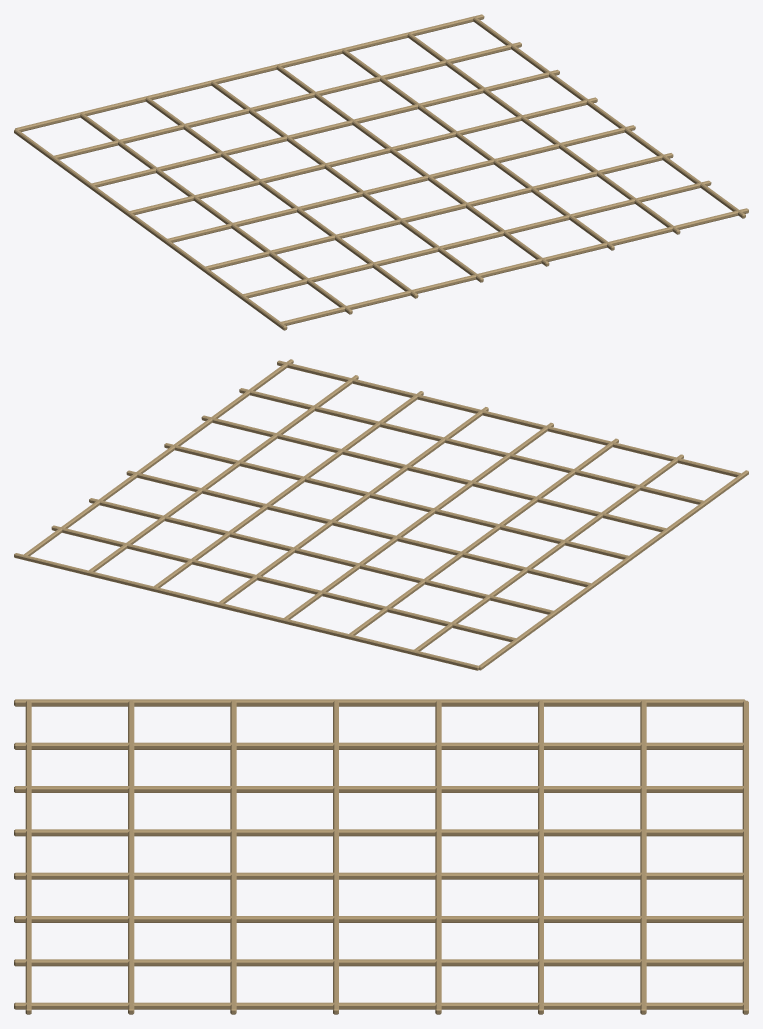
Rendered from equipment-net.lod0.glb.
3 views of the same model, one above another, from view 1: azimuth 30°, elevation 25°; view 2: azimuth 150°, elevation 25°; view 3: azimuth 270°, elevation 25° (orthographic). The views are drawn at different scales.
Visible parts, largest first — view 1: equipment-net__body; view 2: equipment-net__body; view 3: equipment-net__body.
Part boxes in pixels (<box>): equipment-net__body: <box>14,14,748,330</box>; equipment-net__body: <box>14,359,748,670</box>; equipment-net__body: <box>14,699,748,1014</box>.
Size of the model in its own units: 2.01 by 0.017 by 2.01.
